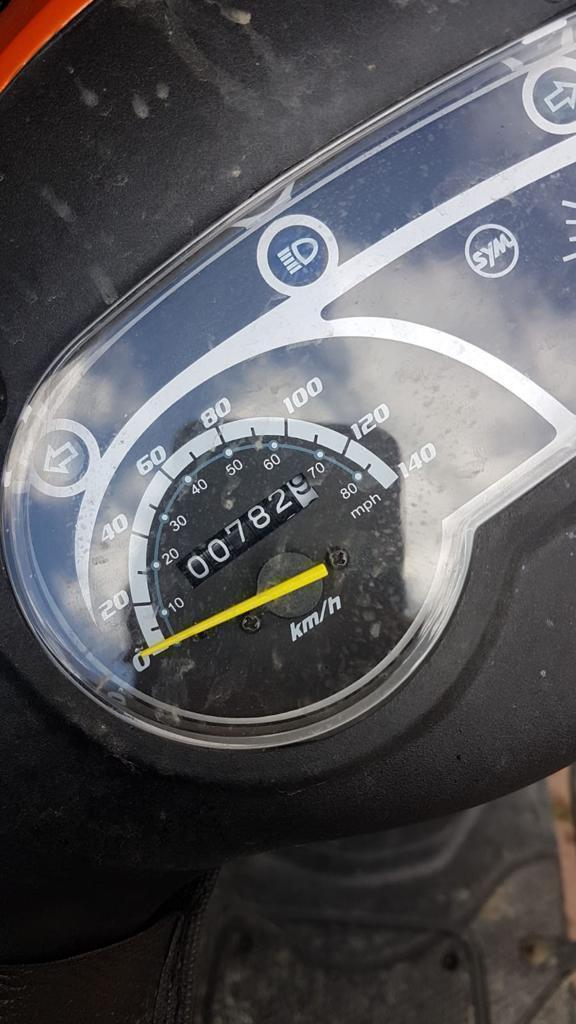0: (185, 554, 210, 579), (207, 537, 230, 562), (175, 514, 186, 527), (196, 478, 207, 489)
2: (266, 488, 293, 514)
3: (168, 520, 179, 532)
4: (191, 483, 200, 495)
7: (223, 518, 246, 543)
8: (246, 504, 271, 529)
9: (287, 472, 311, 495)
odometer: (174, 471, 320, 590)
